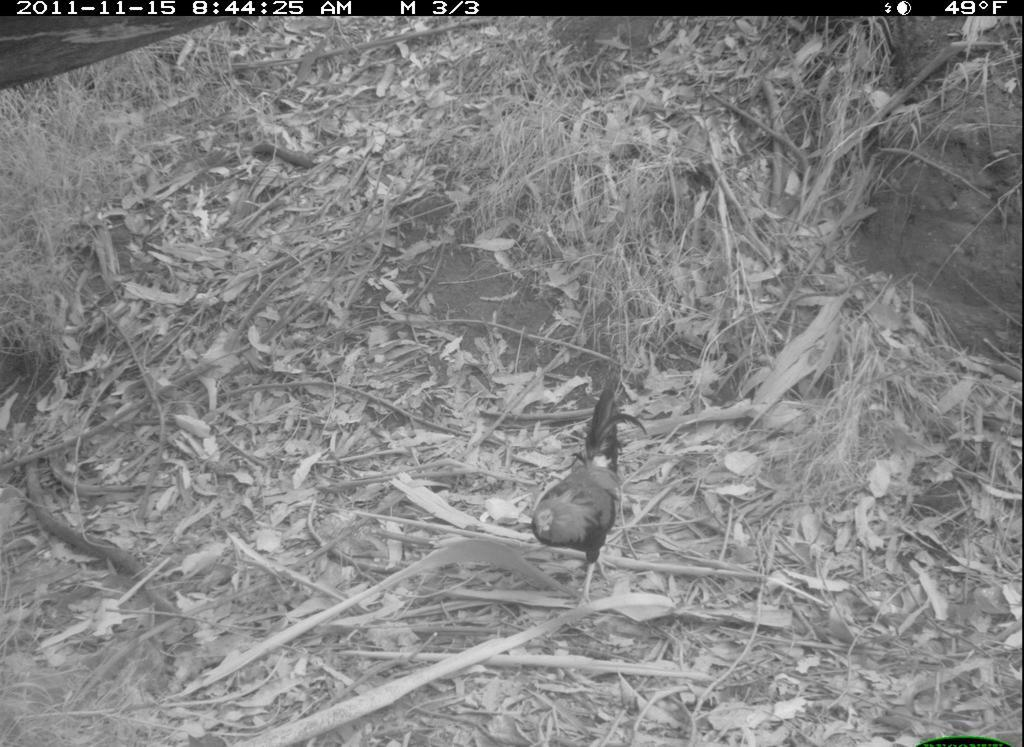bird: (529, 383, 653, 623)
